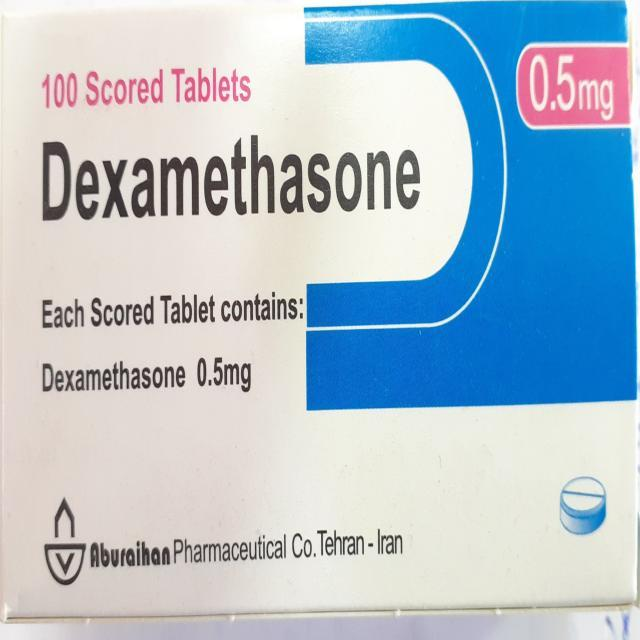drug-name: (36, 134, 422, 218)
